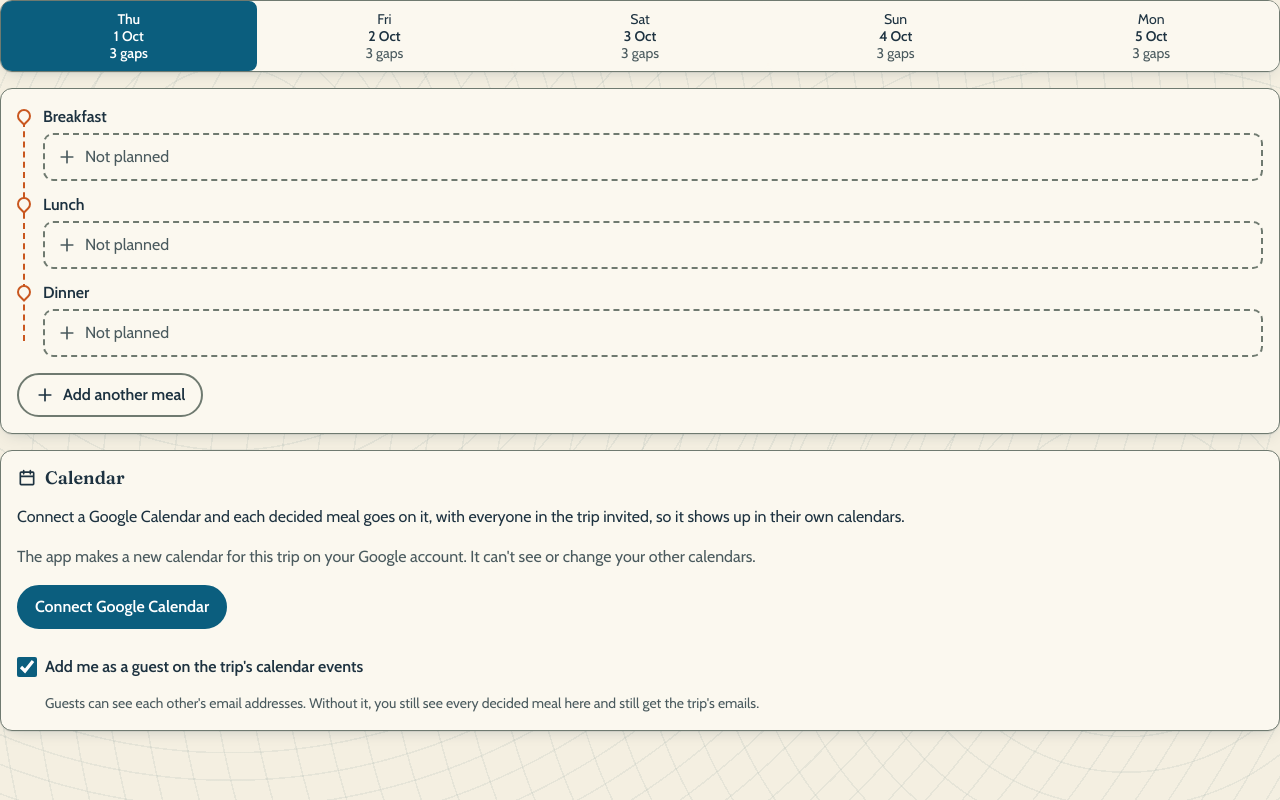
Test: renaming an other meal › breakfast, lunch and dinner are named by their slot, so offer no rename
Click the button "Dinner Not planned" at (653, 319), box x1=43 y1=281 x2=1263 y2=357
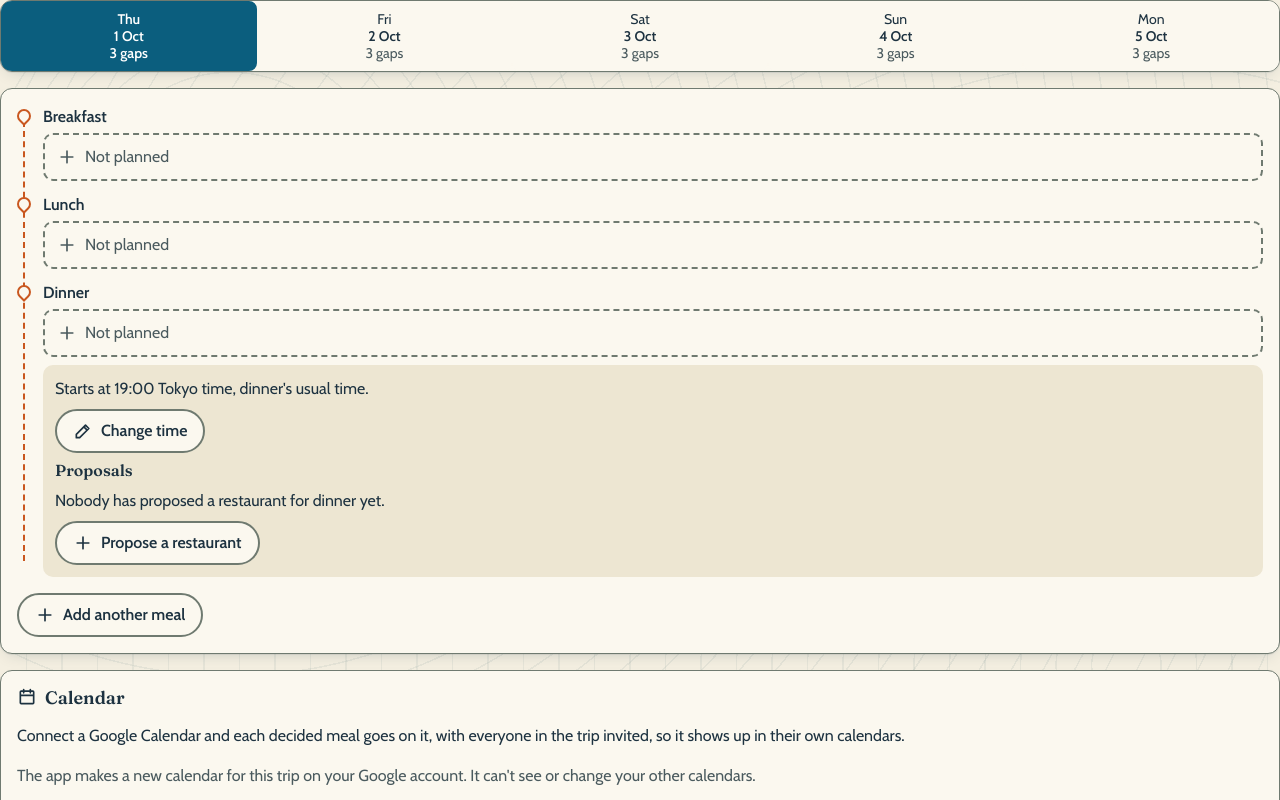
Now the text "Nobody has proposed a restaurant for dinner yet." is shown, box x1=55 y1=491 x2=384 y2=510
